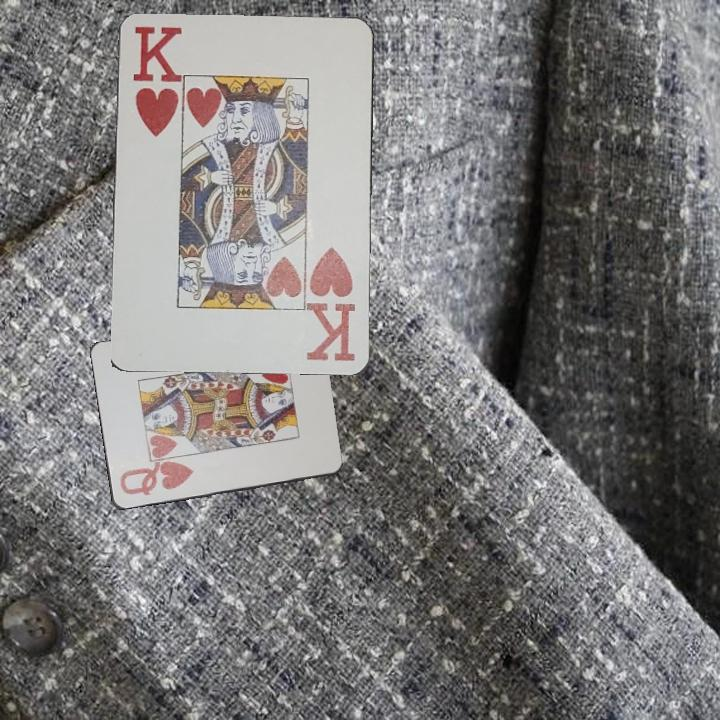Kh: (306, 244, 359, 365), (129, 23, 179, 140)
Qh: (116, 459, 196, 499)
